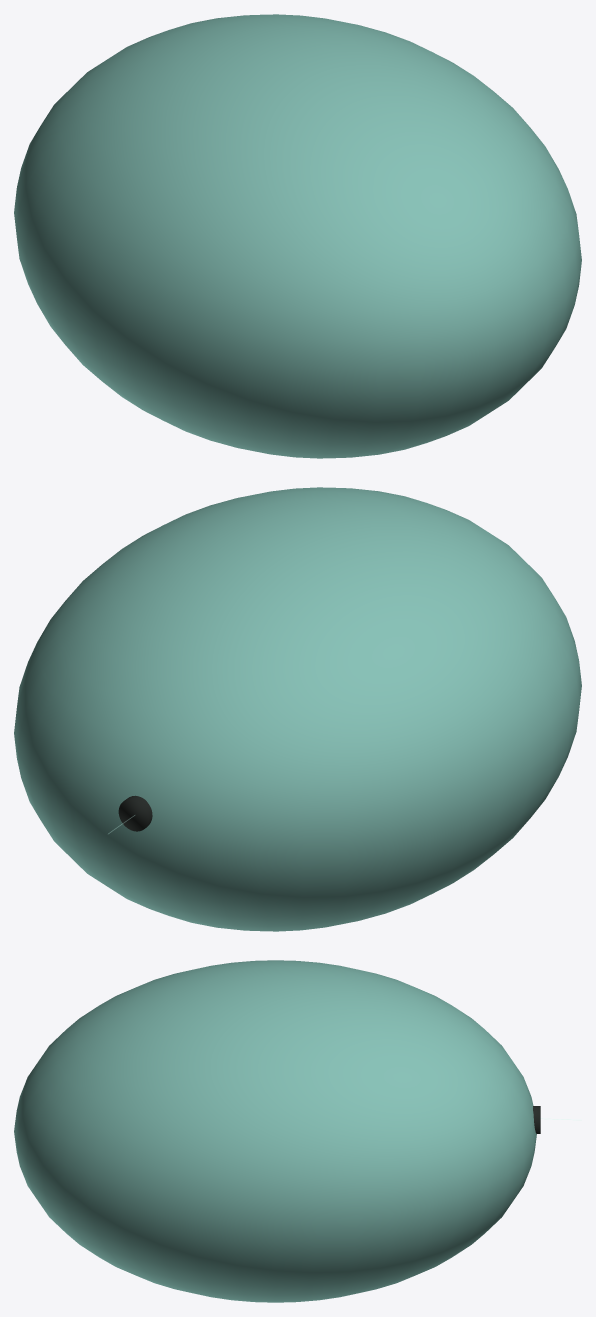
The model's file is aerosense_03_cell_v2.glb.
3 views of the same model, one above another, from view 1: azimuth 30°, elevation 25°; view 2: azimuth 150°, elevation 25°; view 3: azimuth 270°, elevation 25° (orthographic). The views are drawn at different scales.
Visible parts, largest first — view 1: HEK293T_CELL; view 2: HEK293T_CELL, OR_ORCO_RECEPTOR; view 3: HEK293T_CELL.
Part boxes in pixels (x1=…): HEK293T_CELL: x1=14, y1=14, x2=581, y2=458; HEK293T_CELL: x1=14, y1=487, x2=581, y2=931; OR_ORCO_RECEPTOR: x1=118, y1=795, x2=152, y2=831; HEK293T_CELL: x1=14, y1=960, x2=536, y2=1302.
Size of the model in its own units: 6.8 by 5 by 8.9.
